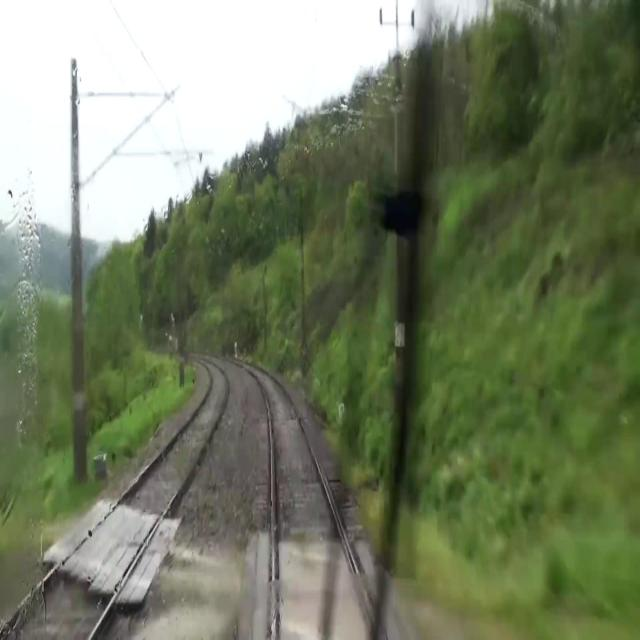rail-track: (3, 367, 225, 639), (253, 369, 371, 639)
